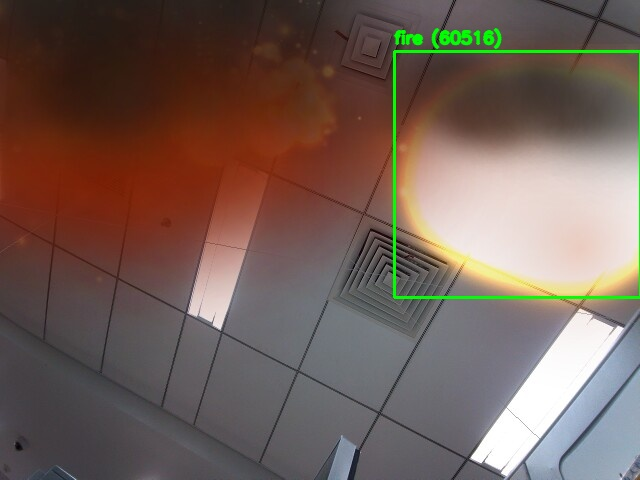fire: (394, 51, 640, 297)
